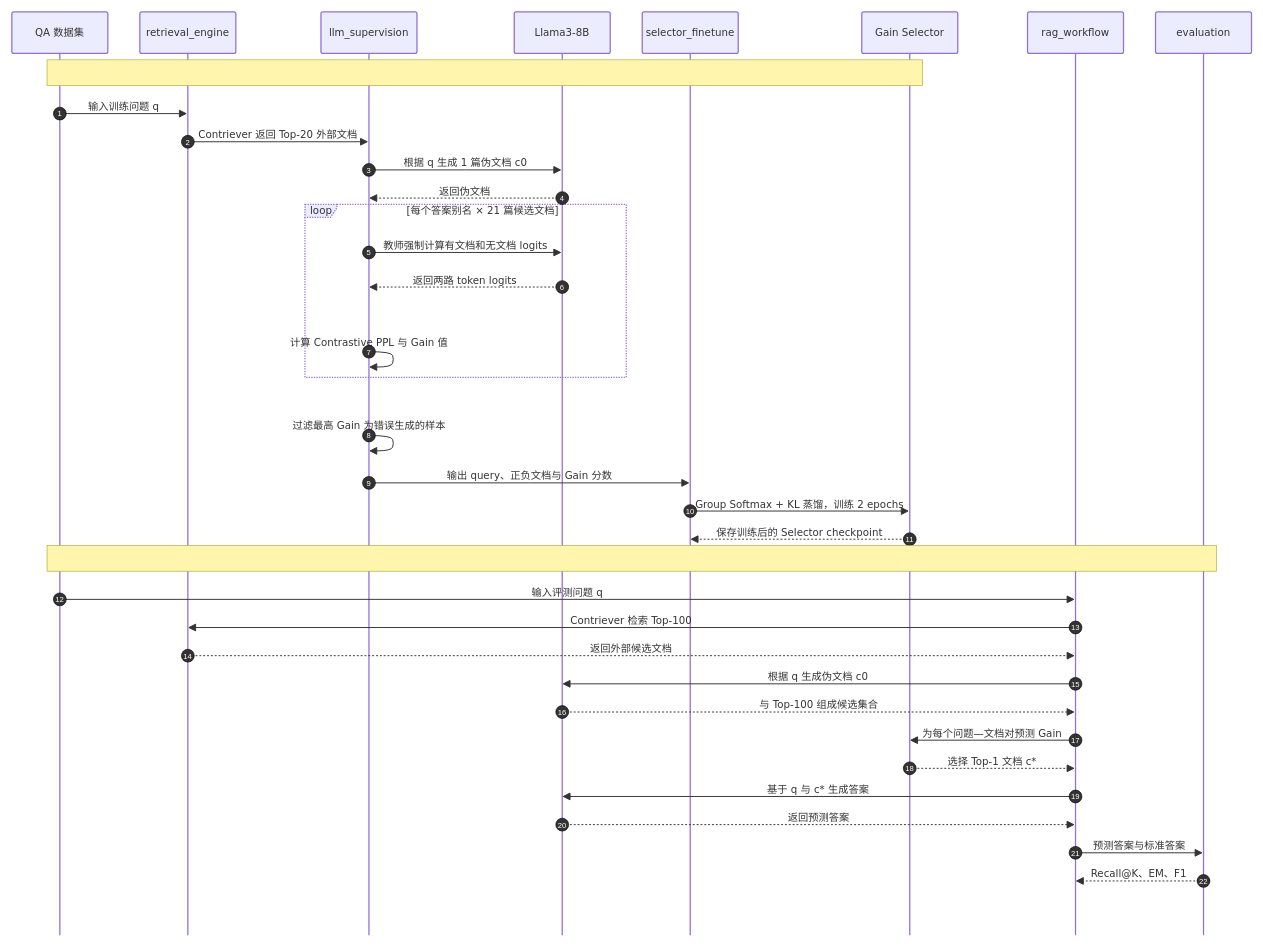
Some shapes in this 1263 by 947 pixel diagram are drawn without their labels. The shapes that lost their labels are listed below. From the top down, each one's centre as x and y in pixels, then its label:
At (x=484, y=72): "离线训练：Gain Signal Synthesis 与 Selector 蒸馏".
At (x=631, y=558): "在线推理：GainRAG".
